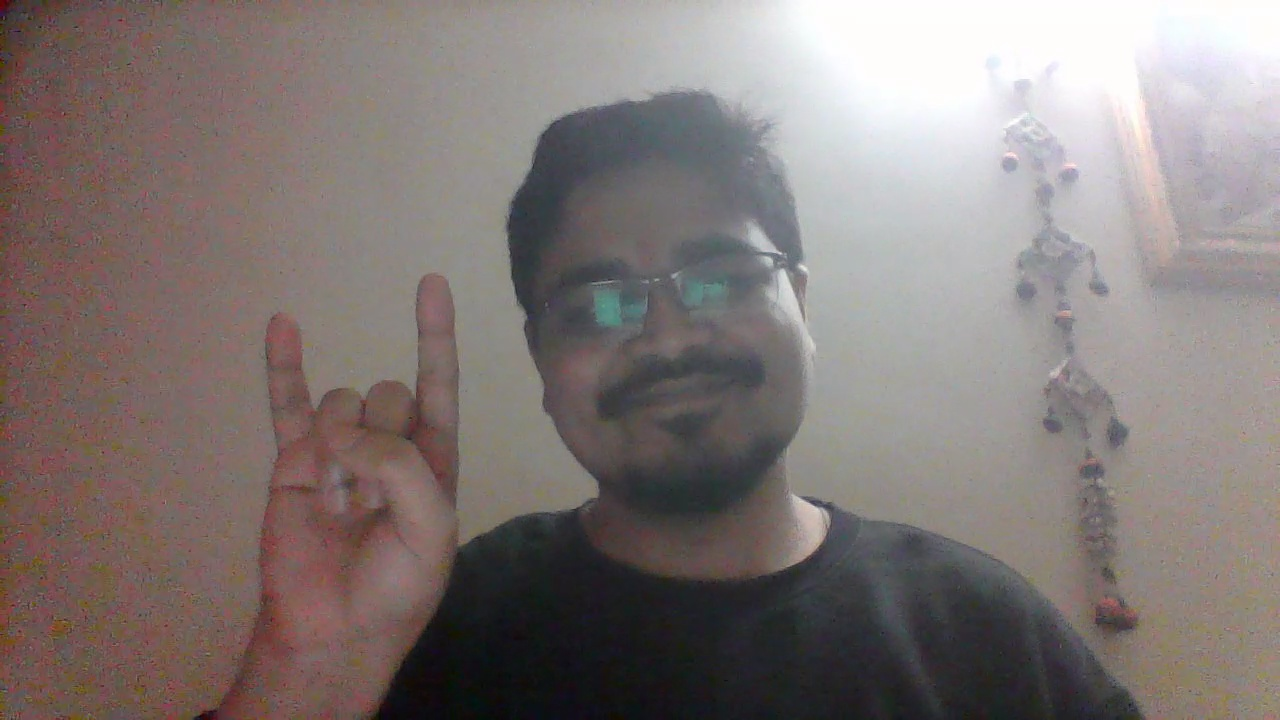ILoveYou: (244, 266, 473, 720)
